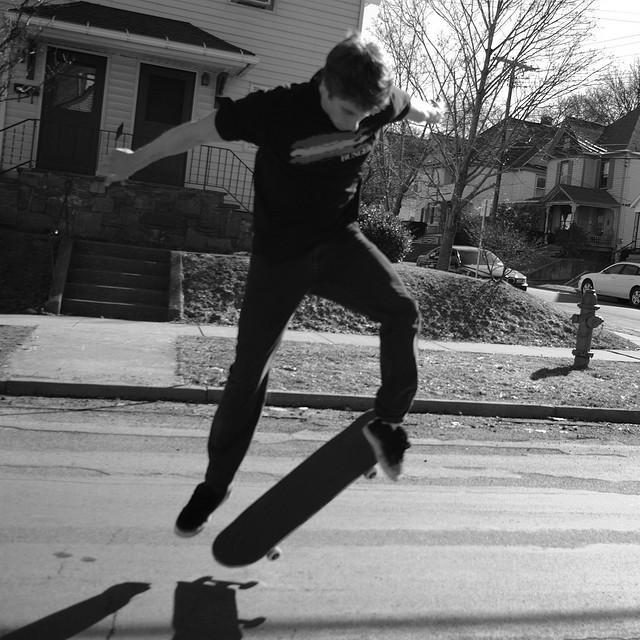fire_hydrant: (569, 290, 604, 371)
